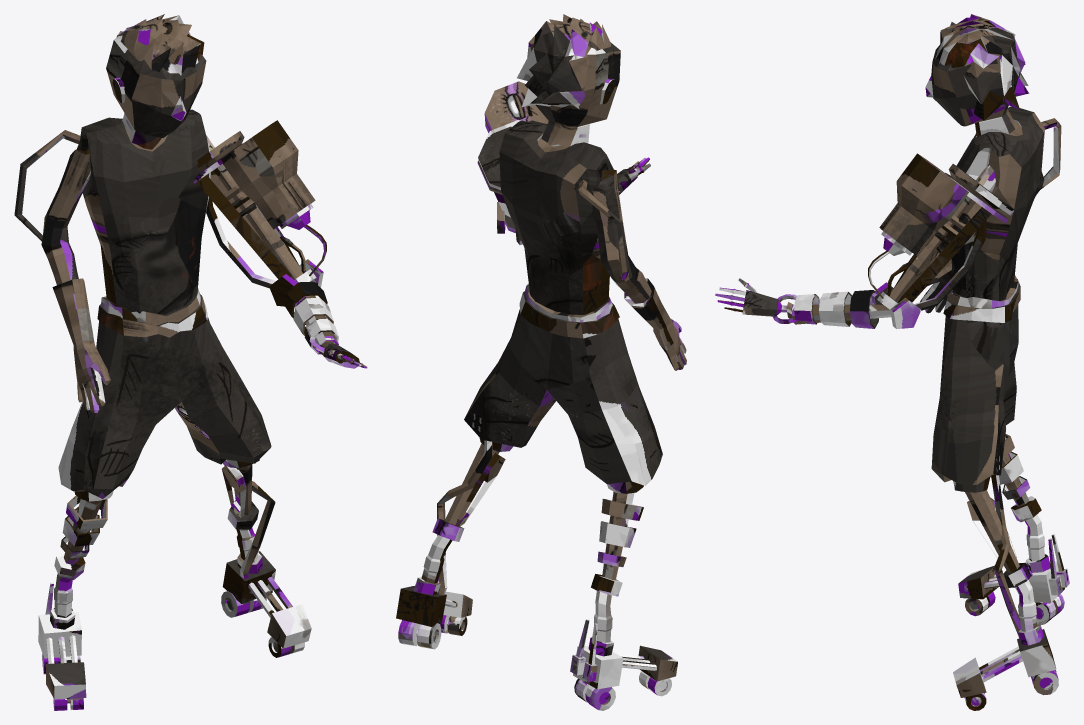
Rendered from CyborgFINALAnimation_000034.obj.
The picture shows the model from 3 angles, left to right: view 1: azimuth 30°, elevation 25°; view 2: azimuth 150°, elevation 25°; view 3: azimuth 270°, elevation 25°; orthographic projection. The views are drawn at different scales.
Parts seen in each view (by area): view 1: CyborgMesh_Cube.002; view 2: CyborgMesh_Cube.002; view 3: CyborgMesh_Cube.002.
Boxes of the visible parts, left/top/right/bottom form: CyborgMesh_Cube.002: left=14, top=14, right=367, bottom=710; CyborgMesh_Cube.002: left=396, top=14, right=686, bottom=710; CyborgMesh_Cube.002: left=715, top=14, right=1069, bottom=710.
Bounding box in the file's own units: 3.8 × 9.66 × 4.92.
